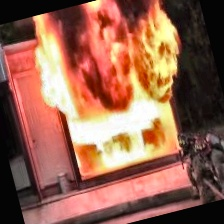fire: (9, 0, 213, 200)
